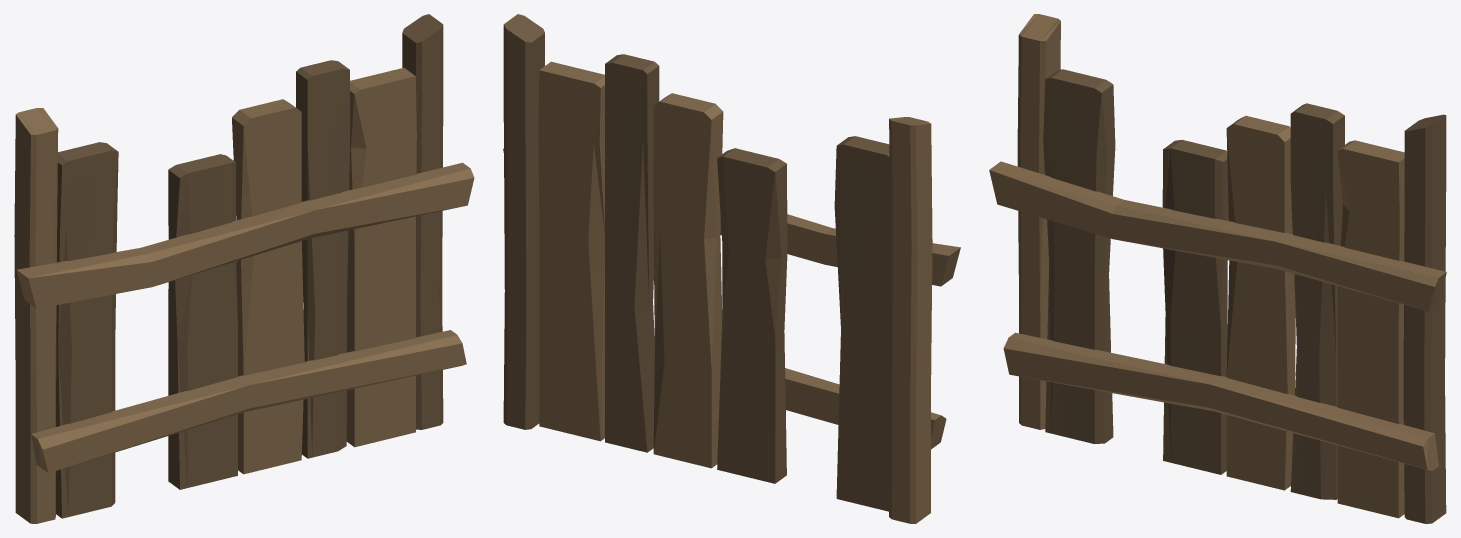
File: Valla.glb
3 renders of one model, left to right at view 1: azimuth 30°, elevation 25°; view 2: azimuth 150°, elevation 25°; view 3: azimuth 330°, elevation 25°, orthographic.
Parts seen in each view (by area): view 1: SM_Prop_Fence_Wood_02; view 2: SM_Prop_Fence_Wood_02; view 3: SM_Prop_Fence_Wood_02.
Boxes of the visible parts, x1,y1,x2,y2 form: SM_Prop_Fence_Wood_02: (14, 14, 474, 523); SM_Prop_Fence_Wood_02: (503, 14, 960, 523); SM_Prop_Fence_Wood_02: (989, 14, 1446, 523).
Bounding box in the file's own units: 1.96 × 1.67 × 0.2285.
1 material, 1 textured.
